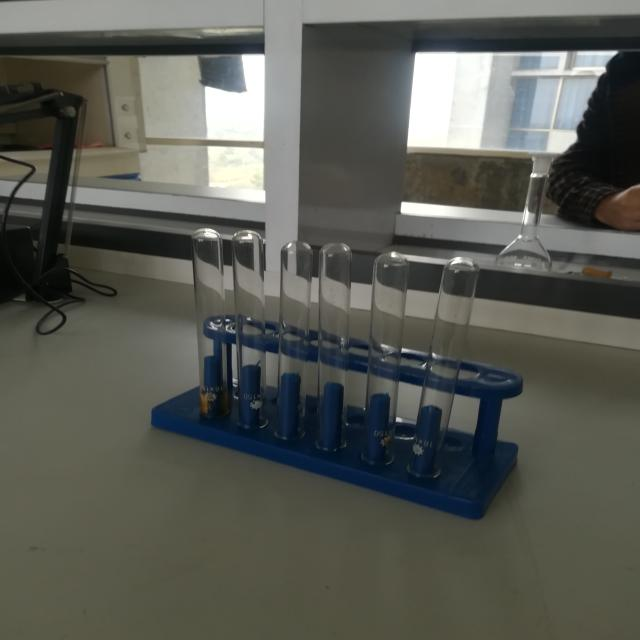Test_Tube: (136, 205, 514, 501)
